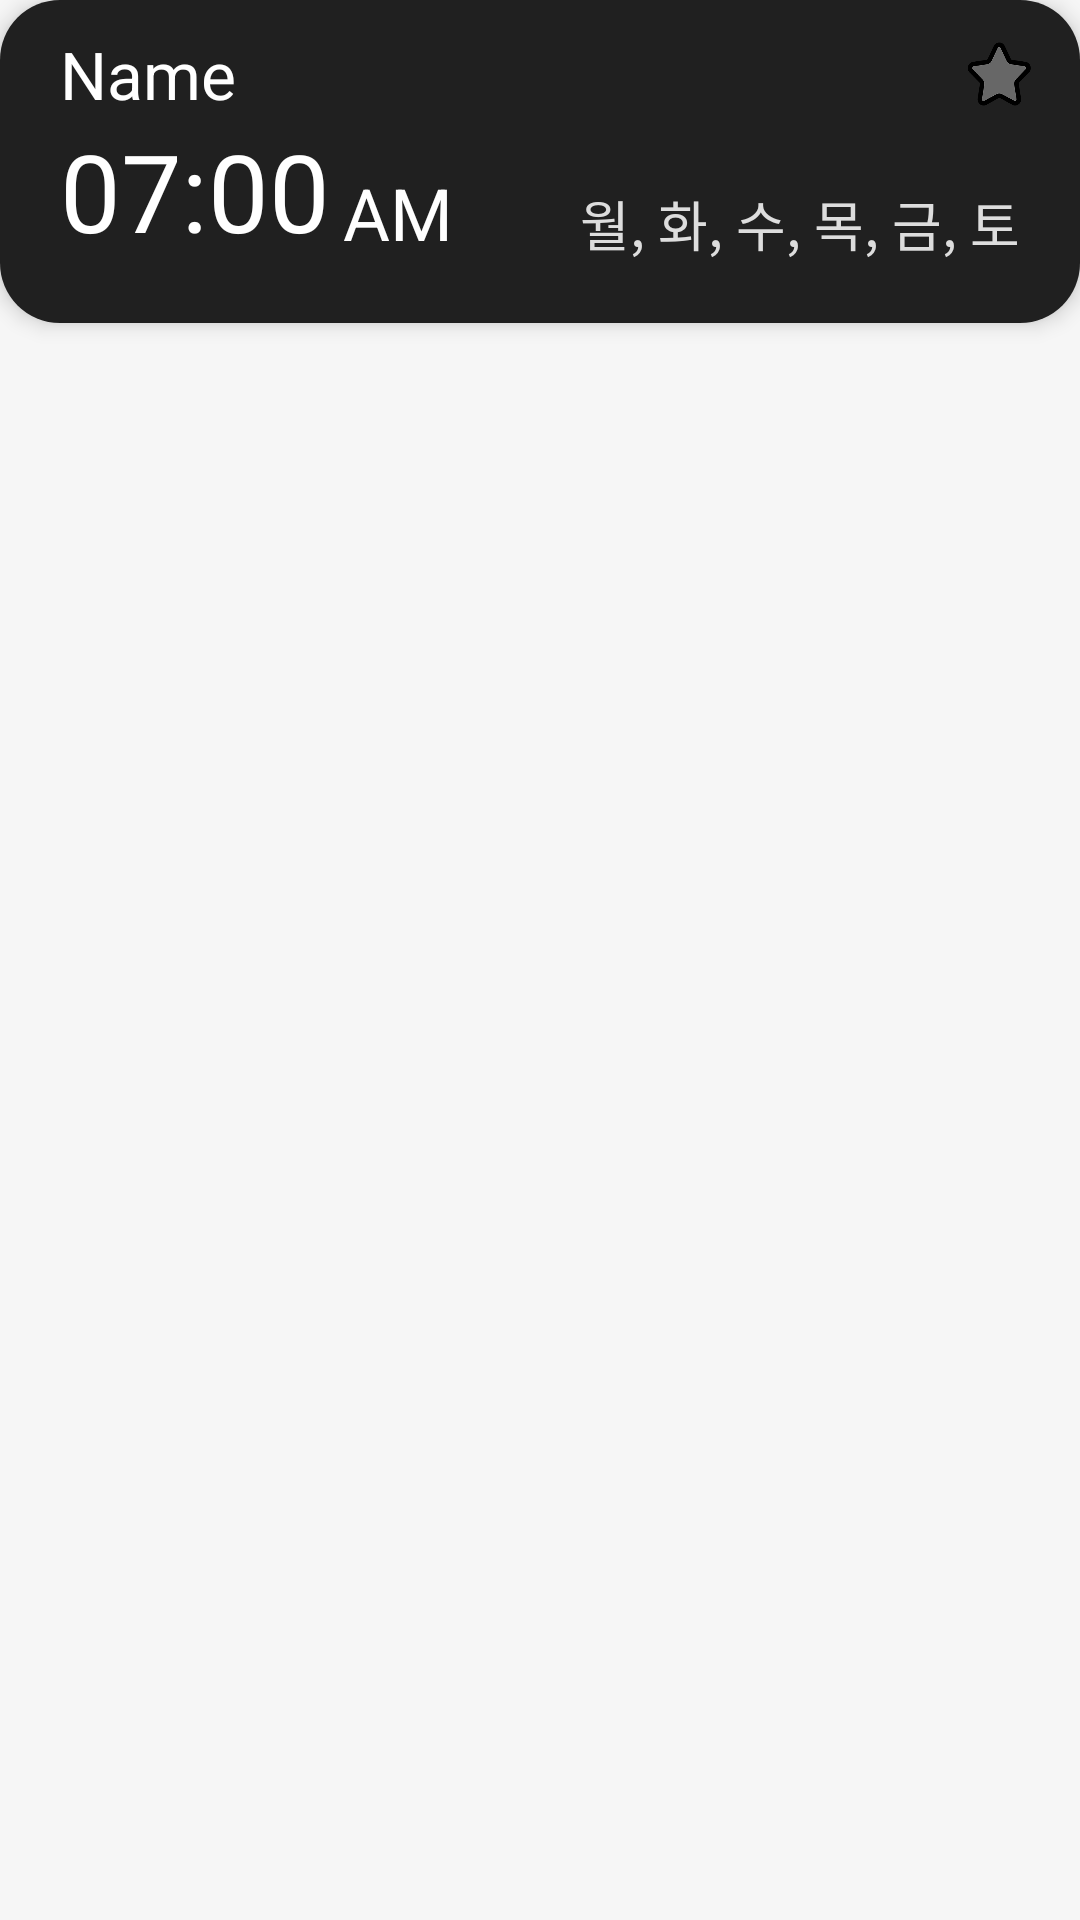

Locate icon controls on the screen. Image size 1080*1920, boxes as (x1, y1, x2, y2).
favorite star checkbox: (968, 43, 1031, 105)
